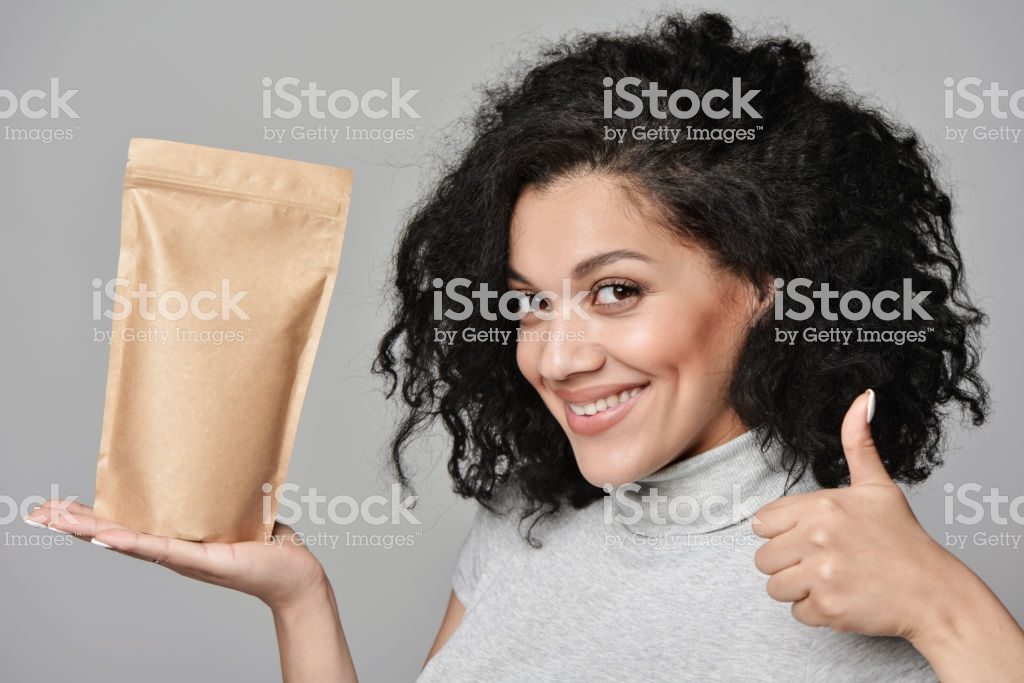thumbsup: (749, 385, 904, 644)
